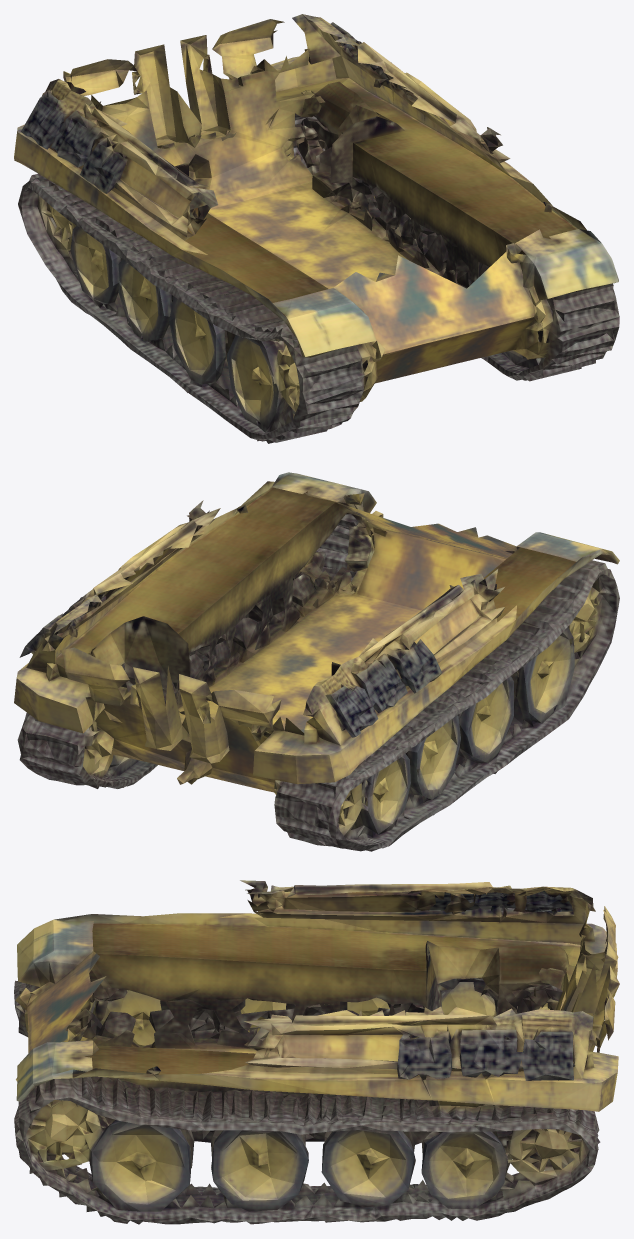
File: panther_hull.obj
The picture shows the model from 3 angles, top to bottom: view 1: azimuth 30°, elevation 25°; view 2: azimuth 150°, elevation 25°; view 3: azimuth 270°, elevation 25°; orthographic projection.
Visible parts, largest first — view 1: panther_hull; view 2: panther_hull; view 3: panther_hull.
Part boxes in pixels (<box>): panther_hull: <box>14,14,619,443</box>; panther_hull: <box>14,472,619,851</box>; panther_hull: <box>14,880,619,1224</box>.
Size of the model in its own units: 4.51 by 2.55 by 6.9.
1 material, 1 textured.
